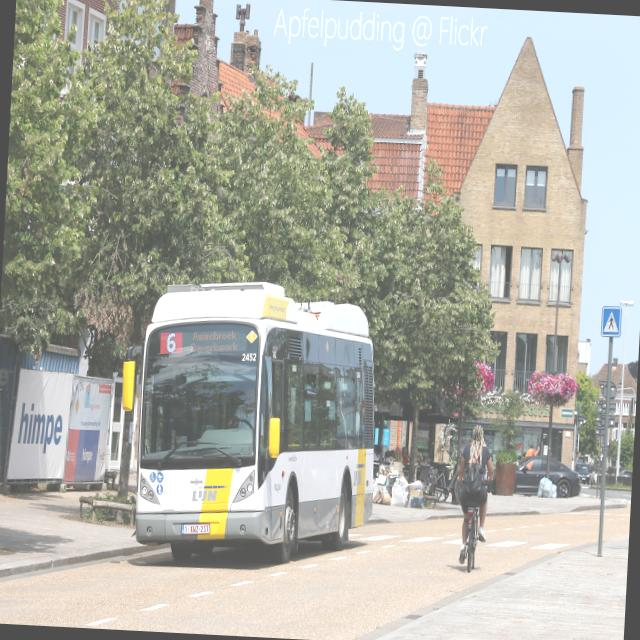bus-number: (160, 331, 182, 354)
